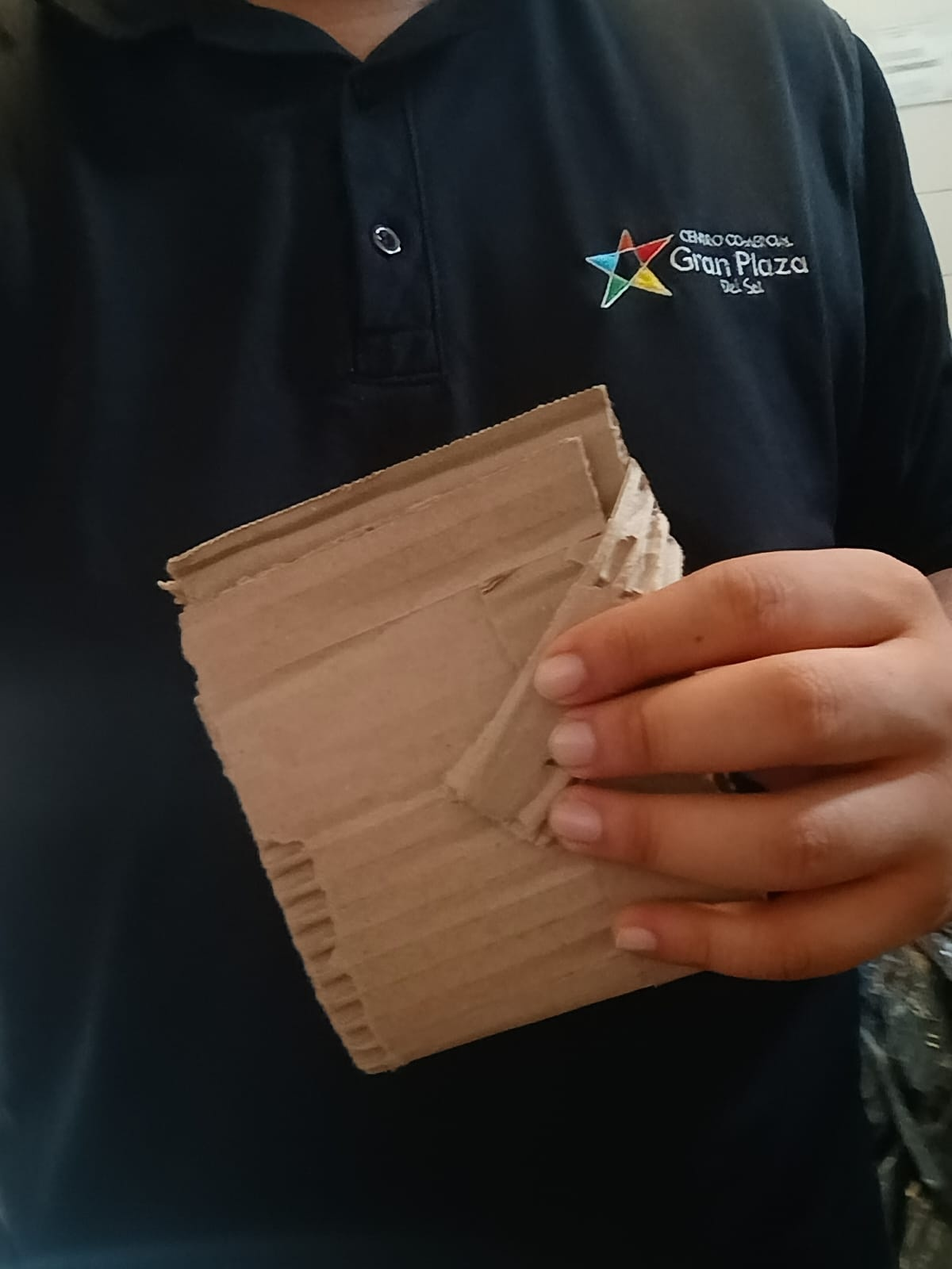Carton: (159, 381, 775, 1073)
